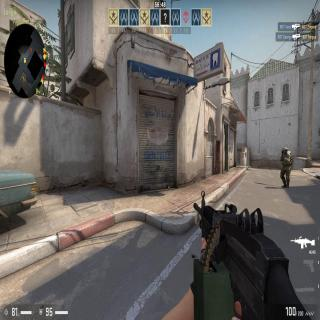CT-Body: (279, 146, 293, 189)
CT-Head: (280, 147, 290, 155)
